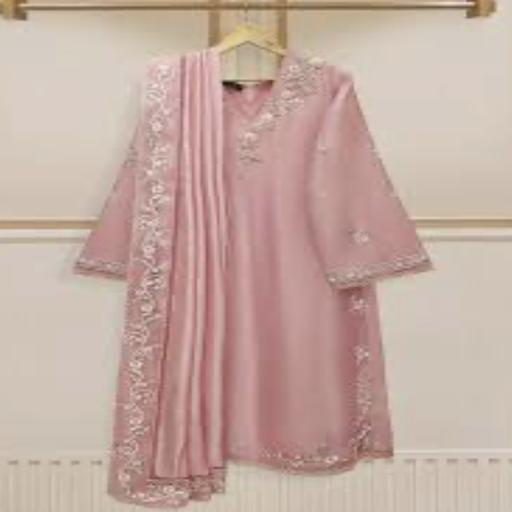dupatta: (106, 54, 242, 510)
kameez: (76, 47, 427, 461)
